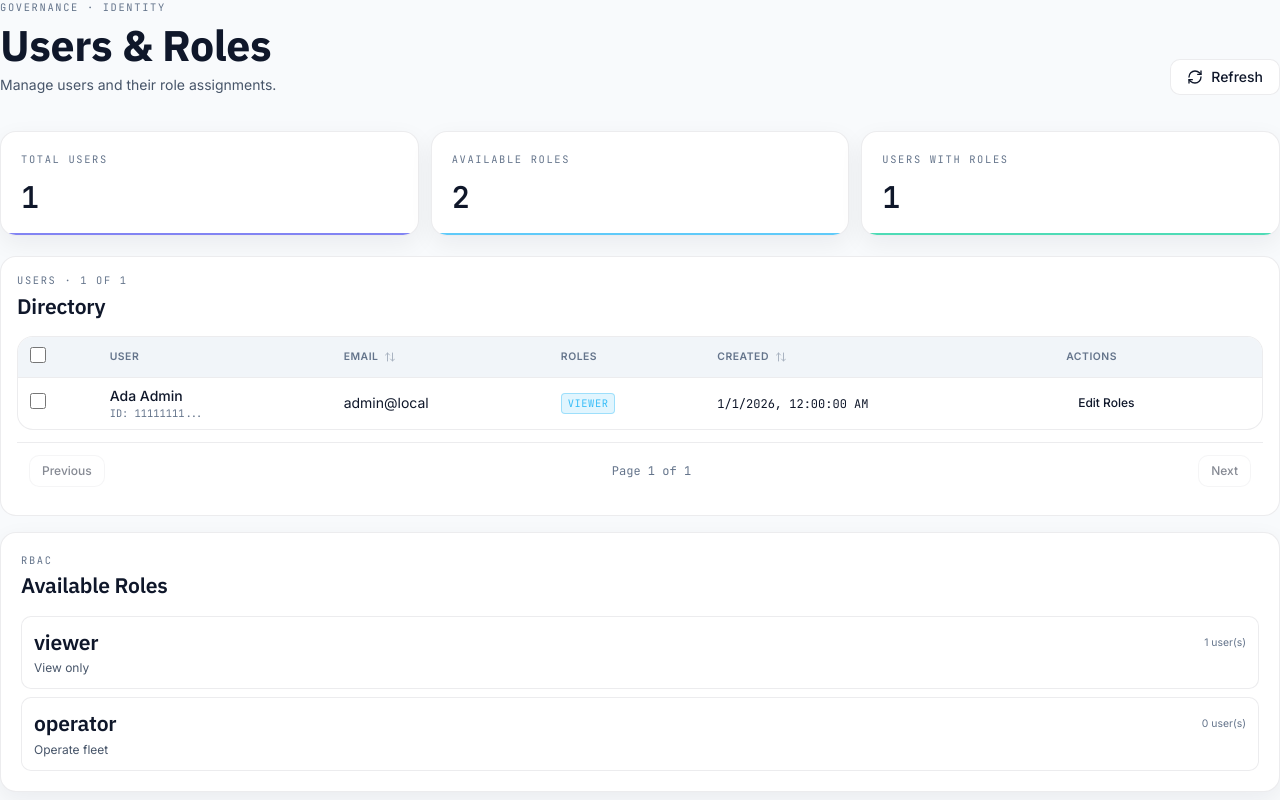
Test case: Users › prevents saving an empty single-user role set
Click the button "Edit Roles". click: (1106, 403)
box: [1066,387,1147,419]
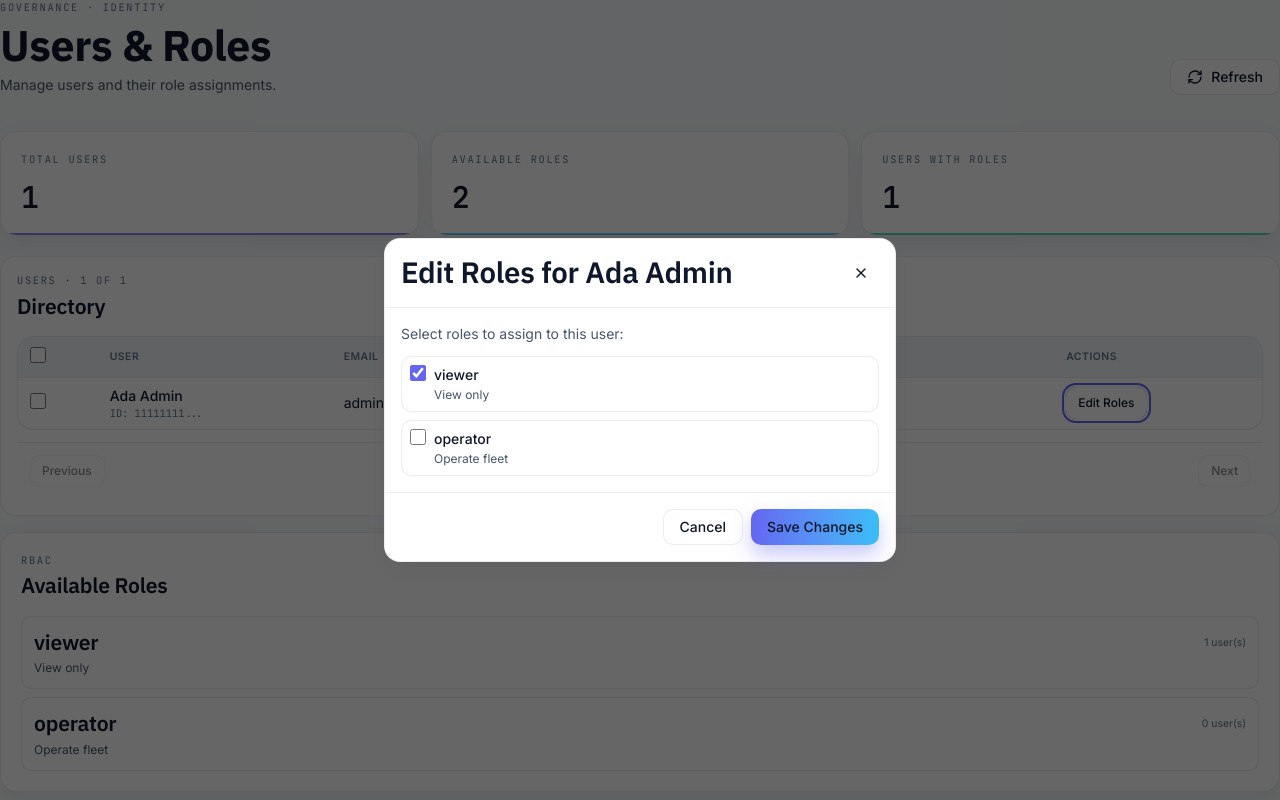
Expected: the checkbox labelled "viewer View only" is checked
Click the checkbox labelled "viewer View only". click: (418, 373)
box: [410,365,426,381]
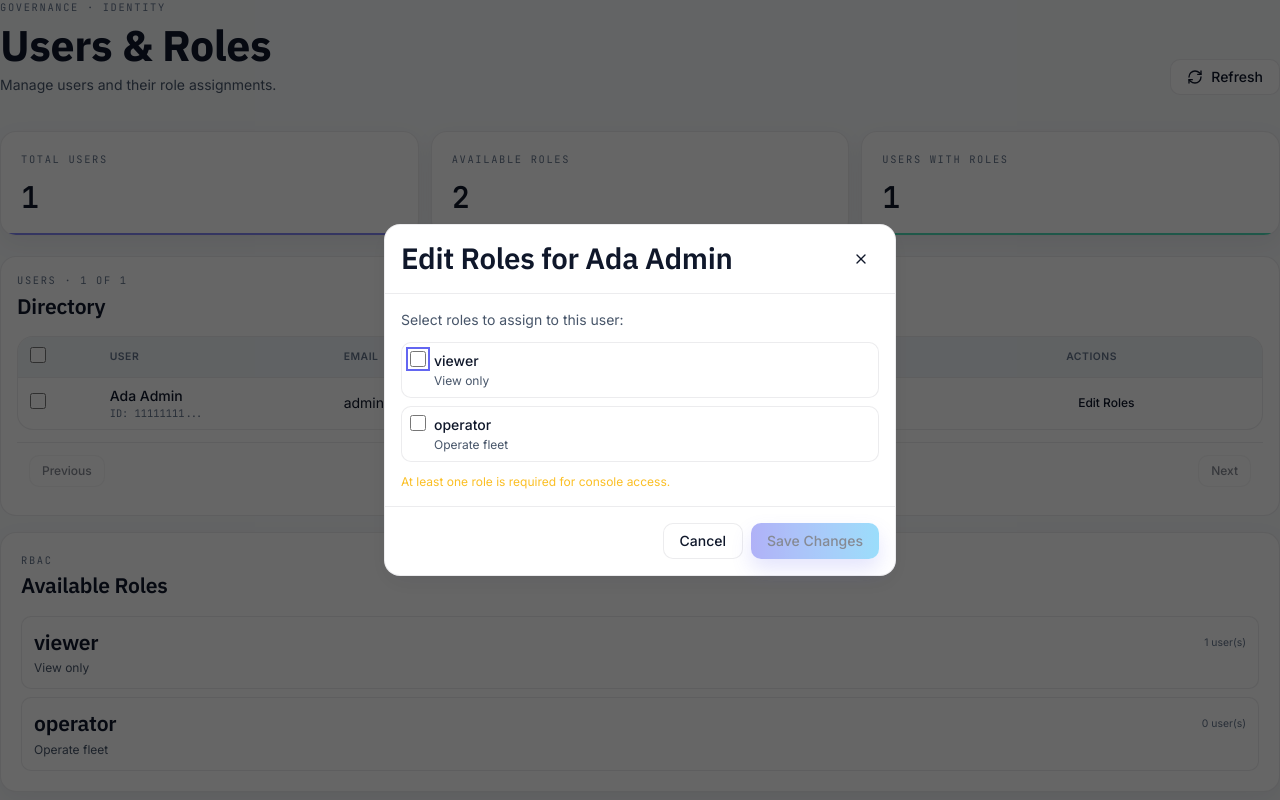
Expected: the text "At least one role is required for console access." is shown, [401,474,670,489]
Expected: the button "Save Changes" is disabled, [751,523,879,559]
